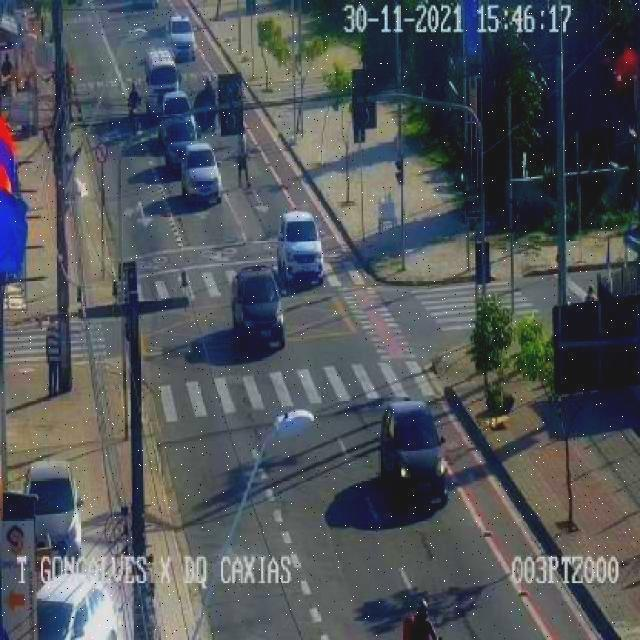Bus: (138, 48, 183, 104)
Car: (381, 396, 461, 514), (19, 449, 85, 544), (26, 577, 124, 640), (270, 205, 330, 286), (223, 265, 286, 340), (175, 141, 230, 195), (152, 110, 201, 163), (163, 18, 205, 62)
